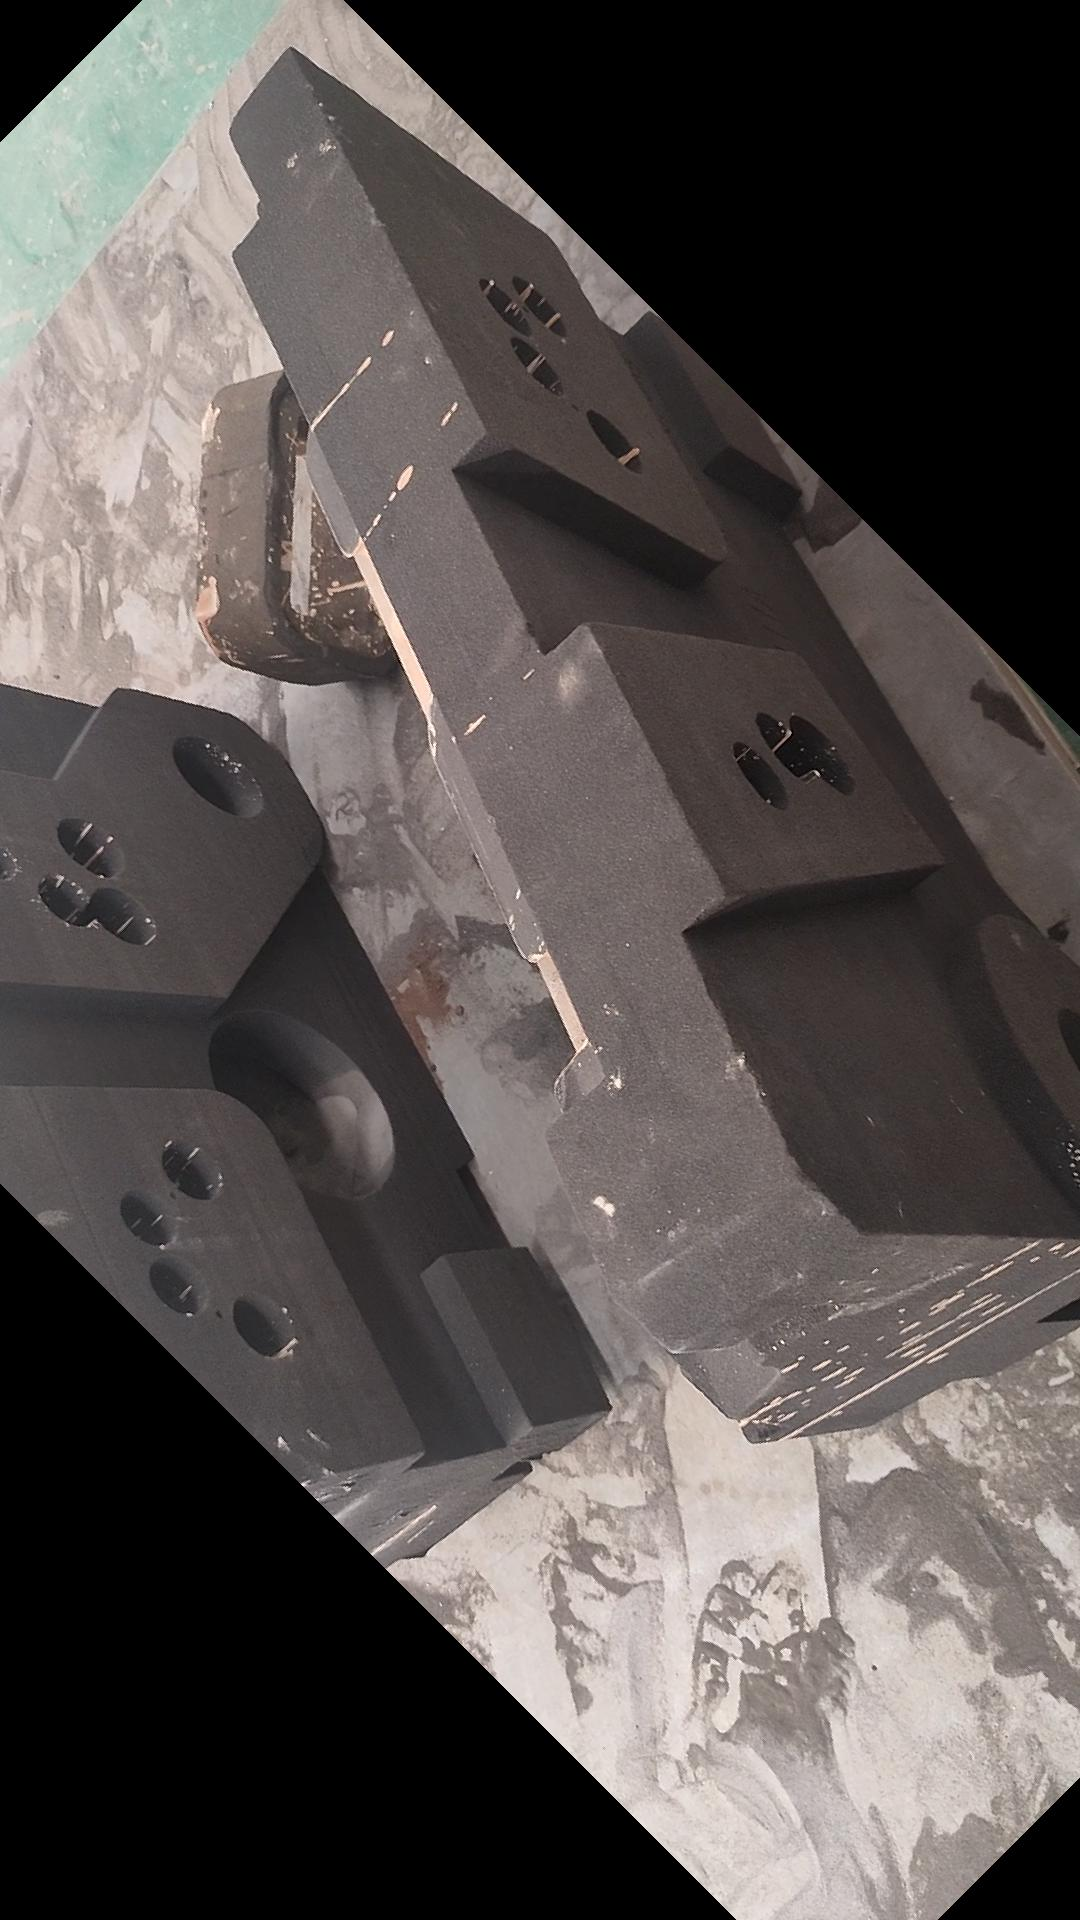pouring hole: (170, 738, 266, 823), (1058, 1000, 1080, 1068)
